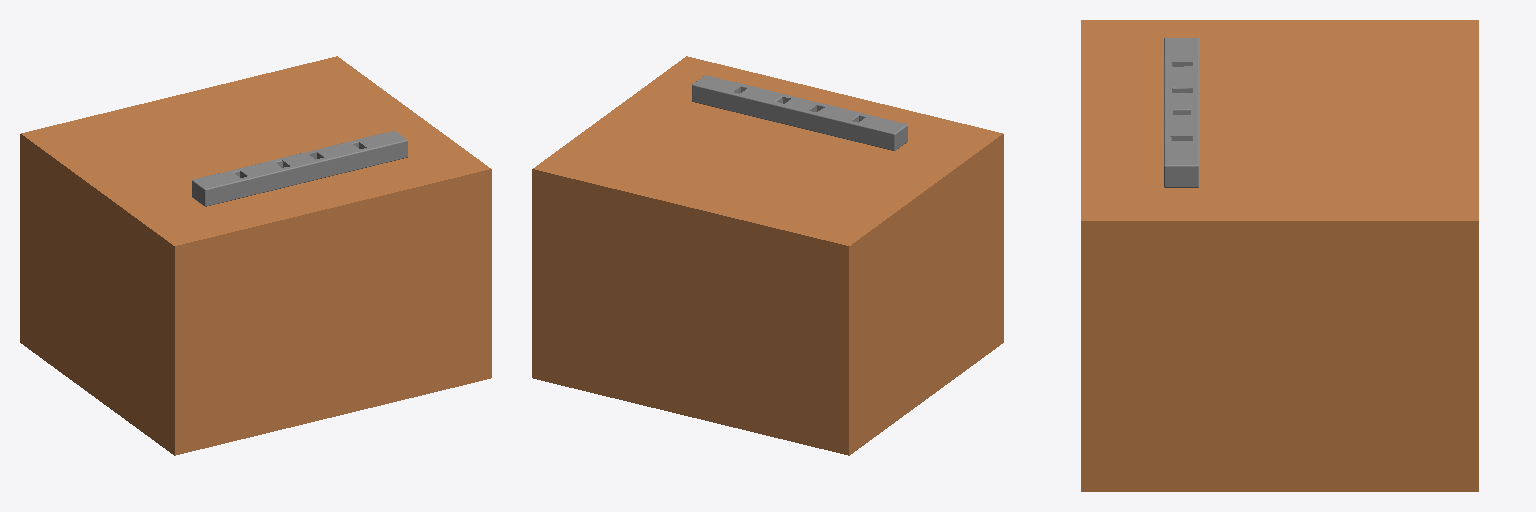
The robot description file, URDF, robot "table_beam_2x_2_scene_0042":
<?xml version="1.0"?>
<robot name="table_beam_2x_2_scene_0042">
  <link name="box">
    <visual>
      <material name="wood"><color rgba="0.82 0.56 0.35 1.0"/></material>
      <origin xyz="0 0 0"/>
      <geometry><box size="0.475 0.4 0.3"/></geometry>
    </visual>
    <collision>
      <origin xyz="0 0 0"/>
      <geometry><box size="0.475 0.4 0.3"/></geometry>
    </collision>
    <inertial>
      <mass value="500"/>
      <friction value="1.0"/>
      <inertia ixx="1000.0" ixy="0.0" ixz="0.0" iyy="1000.0" iyz="0.0" izz="1000.0"/>
    </inertial>
  </link>
  <link name="part_6_hull_0">
    <visual>
      <origin xyz="0 0 0" rpy="0 0 0"/>
      <geometry><mesh filename="../../6/coacd/decomp_0.obj" scale="1 1 1"/></geometry>
      <material name="placed_0"><color rgba="0.6 0.6 0.6 1.0"/></material>
    </visual>
    <collision>
      <origin xyz="0 0 0" rpy="0 0 0"/>
      <geometry><mesh filename="../../6/coacd/decomp_0.obj" scale="1 1 1"/></geometry>
    </collision>
  </link>
  <joint name="part_6_hull_0_joint" type="fixed">
    <parent link="box"/>
    <child link="part_6_hull_0"/>
    <origin xyz="0.008799 -0.098630 0.162666" rpy="0.000000 0.000000 0.000000"/>
  </joint>
  <link name="part_6_hull_1">
    <visual>
      <origin xyz="0 0 0" rpy="0 0 0"/>
      <geometry><mesh filename="../../6/coacd/decomp_1.obj" scale="1 1 1"/></geometry>
      <material name="placed_1"><color rgba="0.6 0.6 0.6 1.0"/></material>
    </visual>
    <collision>
      <origin xyz="0 0 0" rpy="0 0 0"/>
      <geometry><mesh filename="../../6/coacd/decomp_1.obj" scale="1 1 1"/></geometry>
    </collision>
  </link>
  <joint name="part_6_hull_1_joint" type="fixed">
    <parent link="box"/>
    <child link="part_6_hull_1"/>
    <origin xyz="0.008799 -0.098630 0.162666" rpy="0.000000 0.000000 0.000000"/>
  </joint>
  <link name="part_6_hull_2">
    <visual>
      <origin xyz="0 0 0" rpy="0 0 0"/>
      <geometry><mesh filename="../../6/coacd/decomp_10.obj" scale="1 1 1"/></geometry>
      <material name="placed_2"><color rgba="0.6 0.6 0.6 1.0"/></material>
    </visual>
    <collision>
      <origin xyz="0 0 0" rpy="0 0 0"/>
      <geometry><mesh filename="../../6/coacd/decomp_10.obj" scale="1 1 1"/></geometry>
    </collision>
  </link>
  <joint name="part_6_hull_2_joint" type="fixed">
    <parent link="box"/>
    <child link="part_6_hull_2"/>
    <origin xyz="0.008799 -0.098630 0.162666" rpy="0.000000 0.000000 0.000000"/>
  </joint>
  <link name="part_6_hull_3">
    <visual>
      <origin xyz="0 0 0" rpy="0 0 0"/>
      <geometry><mesh filename="../../6/coacd/decomp_11.obj" scale="1 1 1"/></geometry>
      <material name="placed_3"><color rgba="0.6 0.6 0.6 1.0"/></material>
    </visual>
    <collision>
      <origin xyz="0 0 0" rpy="0 0 0"/>
      <geometry><mesh filename="../../6/coacd/decomp_11.obj" scale="1 1 1"/></geometry>
    </collision>
  </link>
  <joint name="part_6_hull_3_joint" type="fixed">
    <parent link="box"/>
    <child link="part_6_hull_3"/>
    <origin xyz="0.008799 -0.098630 0.162666" rpy="0.000000 0.000000 0.000000"/>
  </joint>
  <link name="part_6_hull_4">
    <visual>
      <origin xyz="0 0 0" rpy="0 0 0"/>
      <geometry><mesh filename="../../6/coacd/decomp_12.obj" scale="1 1 1"/></geometry>
      <material name="placed_4"><color rgba="0.6 0.6 0.6 1.0"/></material>
    </visual>
    <collision>
      <origin xyz="0 0 0" rpy="0 0 0"/>
      <geometry><mesh filename="../../6/coacd/decomp_12.obj" scale="1 1 1"/></geometry>
    </collision>
  </link>
  <joint name="part_6_hull_4_joint" type="fixed">
    <parent link="box"/>
    <child link="part_6_hull_4"/>
    <origin xyz="0.008799 -0.098630 0.162666" rpy="0.000000 0.000000 0.000000"/>
  </joint>
  <link name="part_6_hull_5">
    <visual>
      <origin xyz="0 0 0" rpy="0 0 0"/>
      <geometry><mesh filename="../../6/coacd/decomp_13.obj" scale="1 1 1"/></geometry>
      <material name="placed_5"><color rgba="0.6 0.6 0.6 1.0"/></material>
    </visual>
    <collision>
      <origin xyz="0 0 0" rpy="0 0 0"/>
      <geometry><mesh filename="../../6/coacd/decomp_13.obj" scale="1 1 1"/></geometry>
    </collision>
  </link>
  <joint name="part_6_hull_5_joint" type="fixed">
    <parent link="box"/>
    <child link="part_6_hull_5"/>
    <origin xyz="0.008799 -0.098630 0.162666" rpy="0.000000 0.000000 0.000000"/>
  </joint>
  <link name="part_6_hull_6">
    <visual>
      <origin xyz="0 0 0" rpy="0 0 0"/>
      <geometry><mesh filename="../../6/coacd/decomp_2.obj" scale="1 1 1"/></geometry>
      <material name="placed_6"><color rgba="0.6 0.6 0.6 1.0"/></material>
    </visual>
    <collision>
      <origin xyz="0 0 0" rpy="0 0 0"/>
      <geometry><mesh filename="../../6/coacd/decomp_2.obj" scale="1 1 1"/></geometry>
    </collision>
  </link>
  <joint name="part_6_hull_6_joint" type="fixed">
    <parent link="box"/>
    <child link="part_6_hull_6"/>
    <origin xyz="0.008799 -0.098630 0.162666" rpy="0.000000 0.000000 0.000000"/>
  </joint>
  <link name="part_6_hull_7">
    <visual>
      <origin xyz="0 0 0" rpy="0 0 0"/>
      <geometry><mesh filename="../../6/coacd/decomp_3.obj" scale="1 1 1"/></geometry>
      <material name="placed_7"><color rgba="0.6 0.6 0.6 1.0"/></material>
    </visual>
    <collision>
      <origin xyz="0 0 0" rpy="0 0 0"/>
      <geometry><mesh filename="../../6/coacd/decomp_3.obj" scale="1 1 1"/></geometry>
    </collision>
  </link>
  <joint name="part_6_hull_7_joint" type="fixed">
    <parent link="box"/>
    <child link="part_6_hull_7"/>
    <origin xyz="0.008799 -0.098630 0.162666" rpy="0.000000 0.000000 0.000000"/>
  </joint>
  <link name="part_6_hull_8">
    <visual>
      <origin xyz="0 0 0" rpy="0 0 0"/>
      <geometry><mesh filename="../../6/coacd/decomp_4.obj" scale="1 1 1"/></geometry>
      <material name="placed_8"><color rgba="0.6 0.6 0.6 1.0"/></material>
    </visual>
    <collision>
      <origin xyz="0 0 0" rpy="0 0 0"/>
      <geometry><mesh filename="../../6/coacd/decomp_4.obj" scale="1 1 1"/></geometry>
    </collision>
  </link>
  <joint name="part_6_hull_8_joint" type="fixed">
    <parent link="box"/>
    <child link="part_6_hull_8"/>
    <origin xyz="0.008799 -0.098630 0.162666" rpy="0.000000 0.000000 0.000000"/>
  </joint>
  <link name="part_6_hull_9">
    <visual>
      <origin xyz="0 0 0" rpy="0 0 0"/>
      <geometry><mesh filename="../../6/coacd/decomp_5.obj" scale="1 1 1"/></geometry>
      <material name="placed_9"><color rgba="0.6 0.6 0.6 1.0"/></material>
    </visual>
    <collision>
      <origin xyz="0 0 0" rpy="0 0 0"/>
      <geometry><mesh filename="../../6/coacd/decomp_5.obj" scale="1 1 1"/></geometry>
    </collision>
  </link>
  <joint name="part_6_hull_9_joint" type="fixed">
    <parent link="box"/>
    <child link="part_6_hull_9"/>
    <origin xyz="0.008799 -0.098630 0.162666" rpy="0.000000 0.000000 0.000000"/>
  </joint>
  <link name="part_6_hull_10">
    <visual>
      <origin xyz="0 0 0" rpy="0 0 0"/>
      <geometry><mesh filename="../../6/coacd/decomp_6.obj" scale="1 1 1"/></geometry>
      <material name="placed_10"><color rgba="0.6 0.6 0.6 1.0"/></material>
    </visual>
    <collision>
      <origin xyz="0 0 0" rpy="0 0 0"/>
      <geometry><mesh filename="../../6/coacd/decomp_6.obj" scale="1 1 1"/></geometry>
    </collision>
  </link>
  <joint name="part_6_hull_10_joint" type="fixed">
    <parent link="box"/>
    <child link="part_6_hull_10"/>
    <origin xyz="0.008799 -0.098630 0.162666" rpy="0.000000 0.000000 0.000000"/>
  </joint>
  <link name="part_6_hull_11">
    <visual>
      <origin xyz="0 0 0" rpy="0 0 0"/>
      <geometry><mesh filename="../../6/coacd/decomp_7.obj" scale="1 1 1"/></geometry>
      <material name="placed_11"><color rgba="0.6 0.6 0.6 1.0"/></material>
    </visual>
    <collision>
      <origin xyz="0 0 0" rpy="0 0 0"/>
      <geometry><mesh filename="../../6/coacd/decomp_7.obj" scale="1 1 1"/></geometry>
    </collision>
  </link>
  <joint name="part_6_hull_11_joint" type="fixed">
    <parent link="box"/>
    <child link="part_6_hull_11"/>
    <origin xyz="0.008799 -0.098630 0.162666" rpy="0.000000 0.000000 0.000000"/>
  </joint>
  <link name="part_6_hull_12">
    <visual>
      <origin xyz="0 0 0" rpy="0 0 0"/>
      <geometry><mesh filename="../../6/coacd/decomp_8.obj" scale="1 1 1"/></geometry>
      <material name="placed_12"><color rgba="0.6 0.6 0.6 1.0"/></material>
    </visual>
    <collision>
      <origin xyz="0 0 0" rpy="0 0 0"/>
      <geometry><mesh filename="../../6/coacd/decomp_8.obj" scale="1 1 1"/></geometry>
    </collision>
  </link>
  <joint name="part_6_hull_12_joint" type="fixed">
    <parent link="box"/>
    <child link="part_6_hull_12"/>
    <origin xyz="0.008799 -0.098630 0.162666" rpy="0.000000 0.000000 0.000000"/>
  </joint>
  <link name="part_6_hull_13">
    <visual>
      <origin xyz="0 0 0" rpy="0 0 0"/>
      <geometry><mesh filename="../../6/coacd/decomp_9.obj" scale="1 1 1"/></geometry>
      <material name="placed_13"><color rgba="0.6 0.6 0.6 1.0"/></material>
    </visual>
    <collision>
      <origin xyz="0 0 0" rpy="0 0 0"/>
      <geometry><mesh filename="../../6/coacd/decomp_9.obj" scale="1 1 1"/></geometry>
    </collision>
  </link>
  <joint name="part_6_hull_13_joint" type="fixed">
    <parent link="box"/>
    <child link="part_6_hull_13"/>
    <origin xyz="0.008799 -0.098630 0.162666" rpy="0.000000 0.000000 0.000000"/>
  </joint>
</robot>

--- Render facts (derived) ---
Views: 3 orthographic renders of the robot side by side, from view 1: azimuth 30°, elevation 25°; view 2: azimuth 150°, elevation 25°; view 3: azimuth 270°, elevation 25°.
Model table_beam_2x_2_scene_0042 with 15 links and 14 joints (14 fixed), rooted at box, posed all joints at 0.
Visible links, largest first — view 1: box, part_6_hull_1, part_6_hull_0, part_6_hull_9, part_6_hull_5, part_6_hull_3; view 2: box, part_6_hull_1, part_6_hull_0, part_6_hull_2, part_6_hull_5, part_6_hull_12; view 3: box, part_6_hull_0, part_6_hull_1, part_6_hull_5, part_6_hull_2.
Boxes of the visible links, x1,y1,x2,y2 form: box: (20,56,491,455); part_6_hull_1: (192,171,243,206); part_6_hull_0: (357,131,407,166); part_6_hull_9: (241,166,292,196); part_6_hull_5: (323,142,362,174); part_6_hull_3: (295,156,335,183); box: (532,56,1003,455); part_6_hull_1: (856,115,907,150); part_6_hull_0: (692,75,742,110); part_6_hull_2: (814,107,858,139); part_6_hull_5: (737,86,776,118); part_6_hull_12: (764,100,805,128); box: (1081,20,1478,491); part_6_hull_0: (1164,141,1198,187); part_6_hull_1: (1164,38,1198,66); part_6_hull_5: (1164,120,1198,140); part_6_hull_2: (1173,66,1198,92).
Bounding box of the posed robot: 0.475 × 0.4 × 0.3254 m (x, y, z).
Meshes: 14 distinct files referenced, 14 mesh visuals loaded (14 OBJ).
